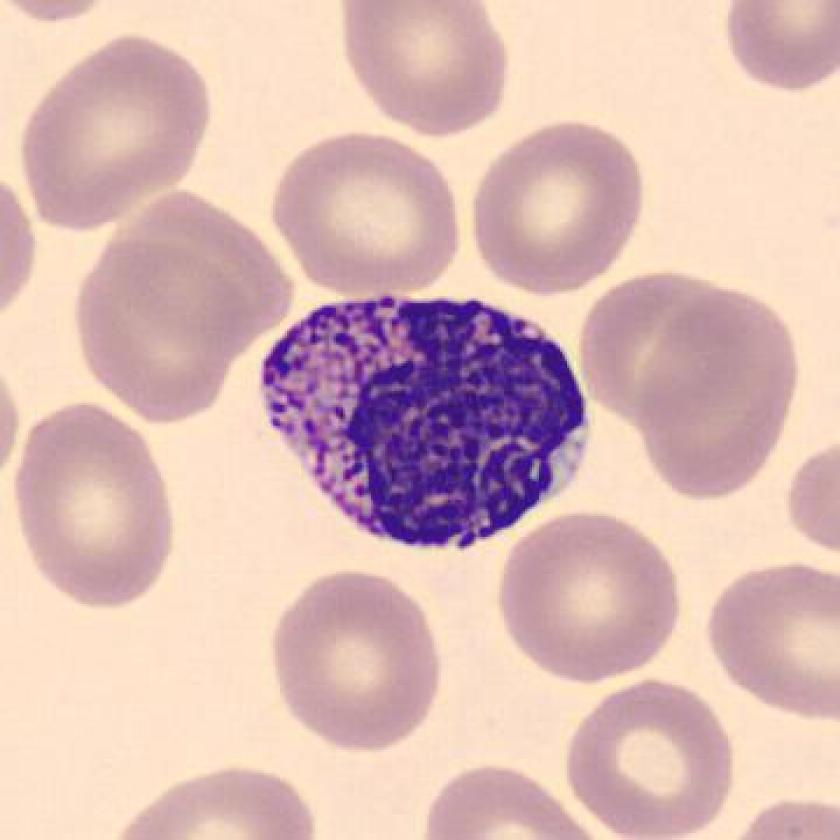basophil: (237, 279, 598, 559)
